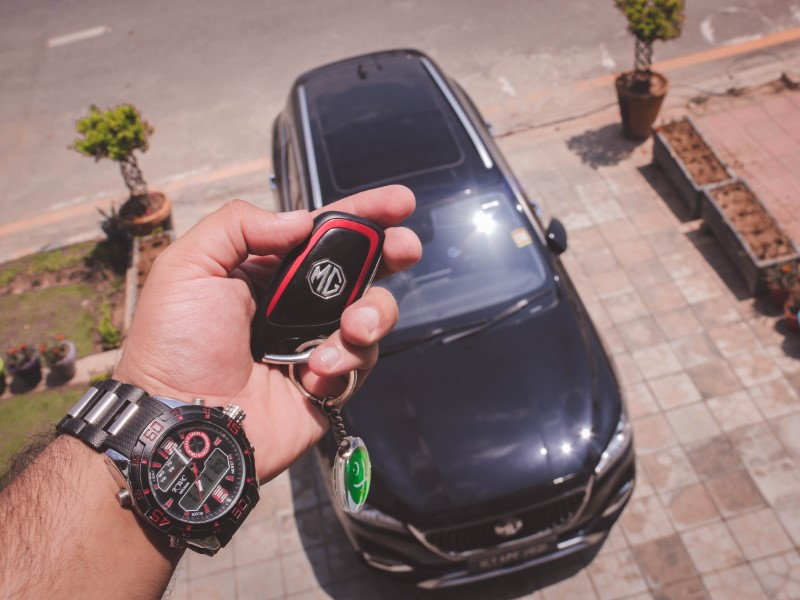carkey: (260, 212, 386, 367)
